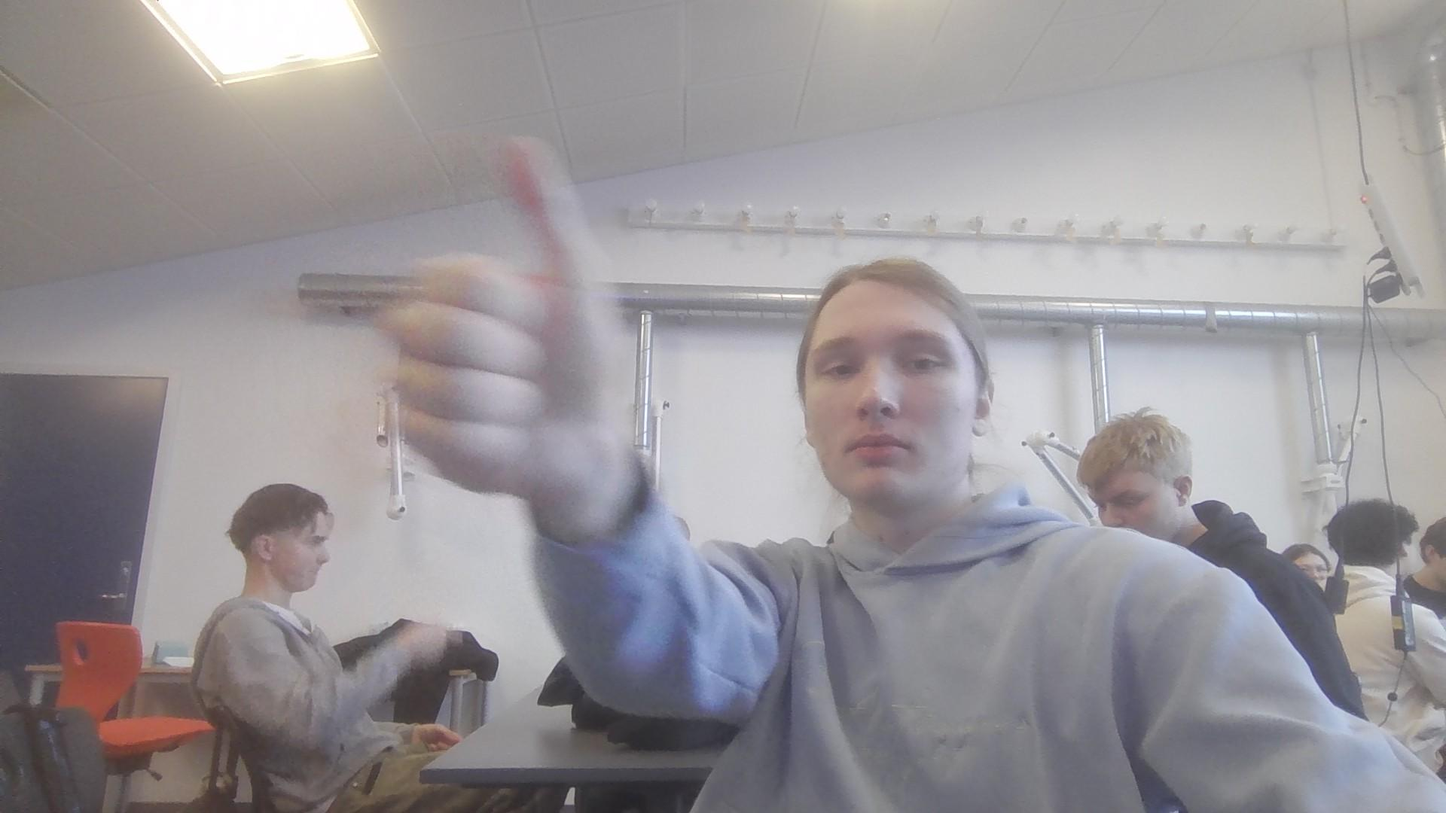thumbs up: (403, 136, 633, 515)
